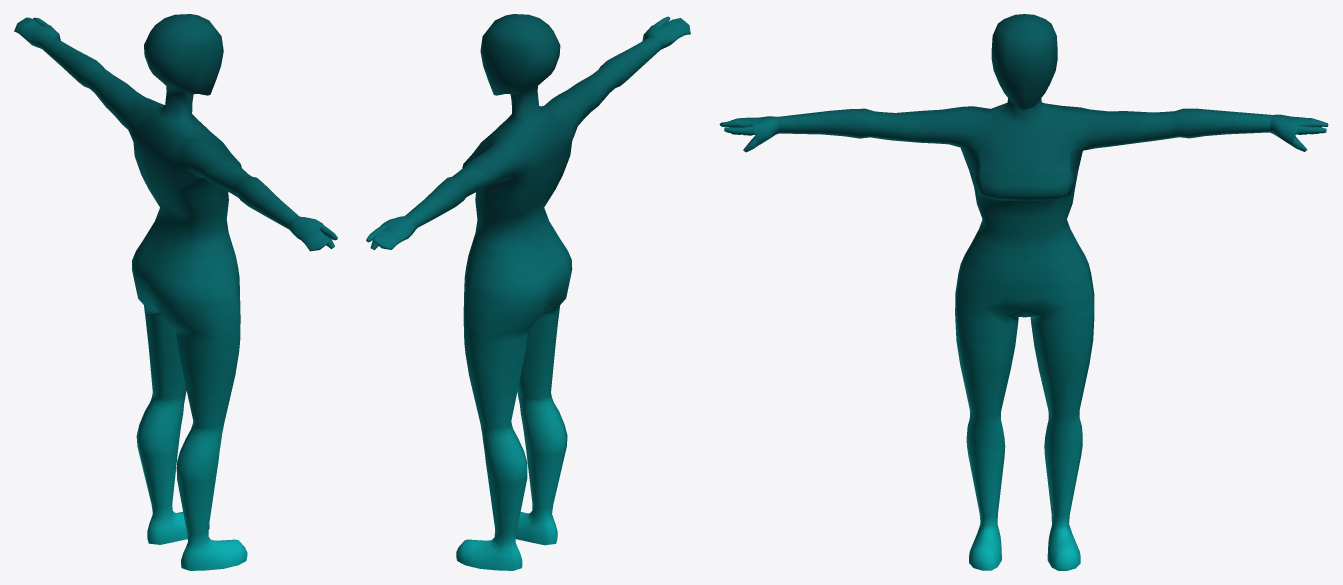
Rendered from scene_32Awooz5F9.glb.
3 renders of one model, left to right at view 1: azimuth 30°, elevation 25°; view 2: azimuth 150°, elevation 25°; view 3: azimuth 270°, elevation 25°, orthographic.
Parts seen in each view (by area): view 1: mesh_char_063.003; view 2: mesh_char_063.003; view 3: mesh_char_063.003.
Boxes of the visible parts, left/top/right/bottom form: mesh_char_063.003: left=14, top=14, right=337, bottom=570; mesh_char_063.003: left=366, top=14, right=690, bottom=570; mesh_char_063.003: left=719, top=14, right=1328, bottom=570.
Bounding box in the file's own units: 0.6713 × 4.04 × 4.19.
1 material, 1 textured.
